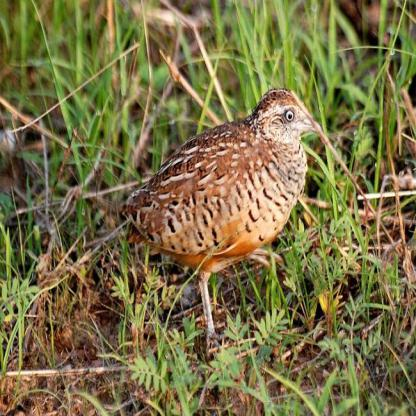Burung: (121, 87, 323, 358)
